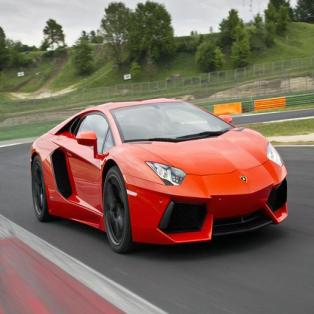Auto: (28, 98, 288, 254)
